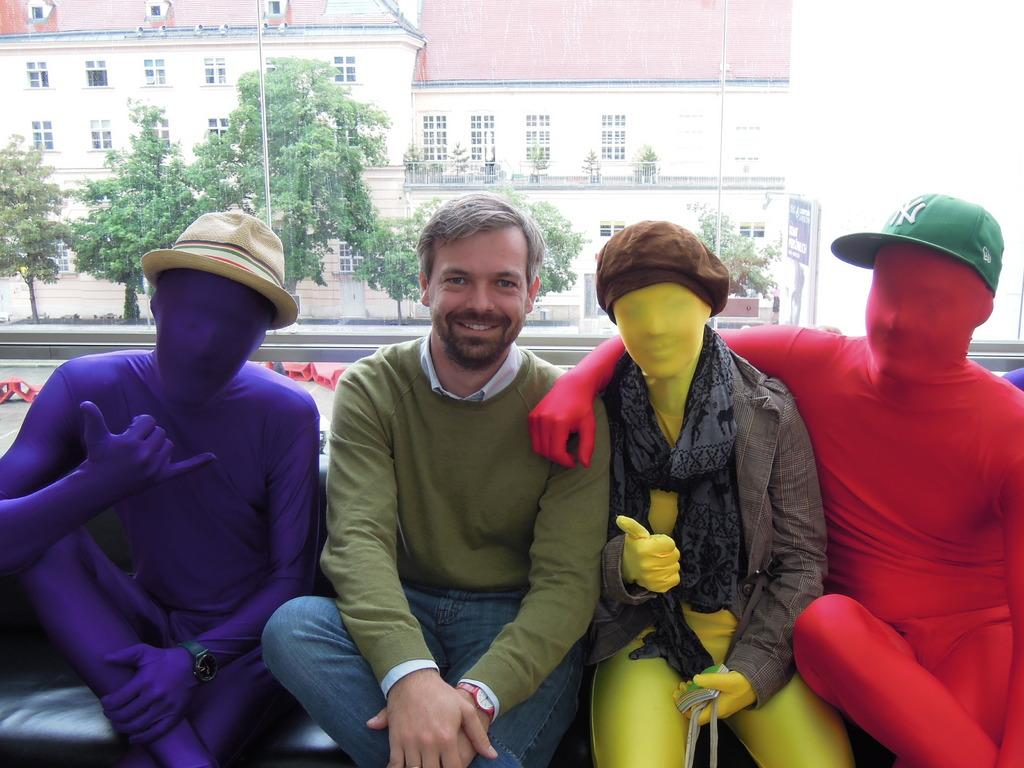Hat: (144, 210, 300, 330), (825, 192, 1004, 294)
